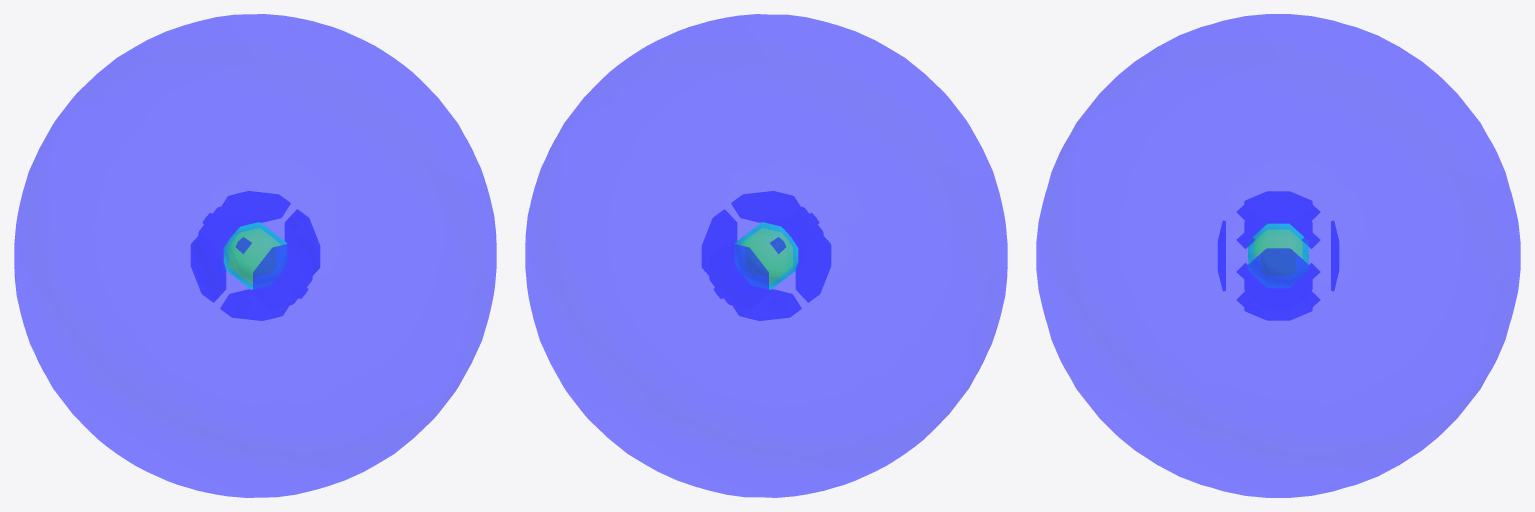
The model's file is orbital_n2_l0_m0_real_multilayer.fbx.
The picture shows the model from 3 angles, left to right: view 1: azimuth 30°, elevation 25°; view 2: azimuth 150°, elevation 25°; view 3: azimuth 270°, elevation 25°; orthographic projection.
Parts seen in each view (by area): view 1: orbital_n2_l0_m0_real_multilayer; view 2: orbital_n2_l0_m0_real_multilayer; view 3: orbital_n2_l0_m0_real_multilayer.
Boxes of the visible parts, left/top/right/bottom form: orbital_n2_l0_m0_real_multilayer: left=14, top=14, right=496, bottom=497; orbital_n2_l0_m0_real_multilayer: left=525, top=14, right=1007, bottom=497; orbital_n2_l0_m0_real_multilayer: left=1036, top=14, right=1520, bottom=497.
Bounding box in the file's own units: 1688 × 1688 × 1688.
